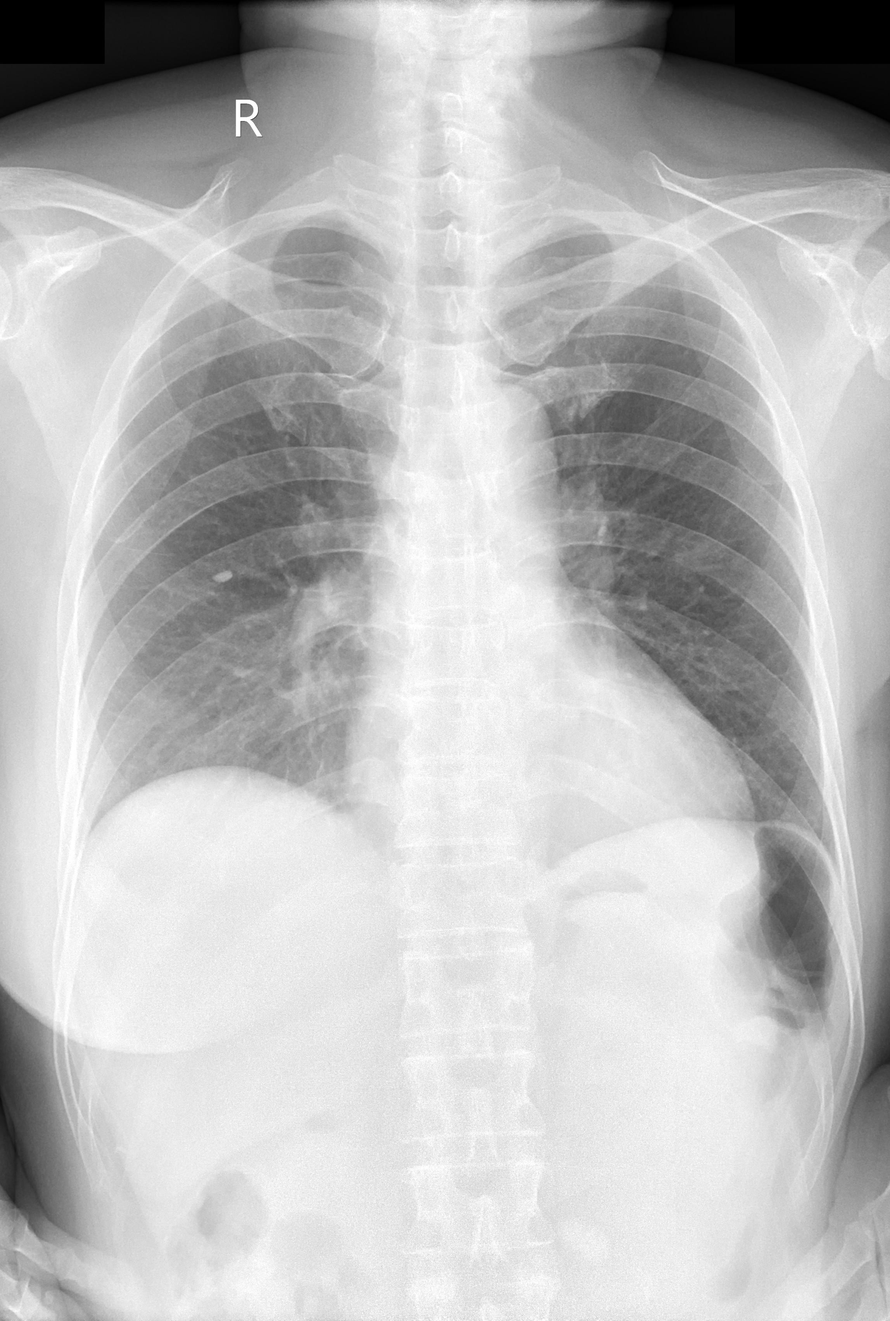Cardiomegaly: (336, 705, 763, 858)
